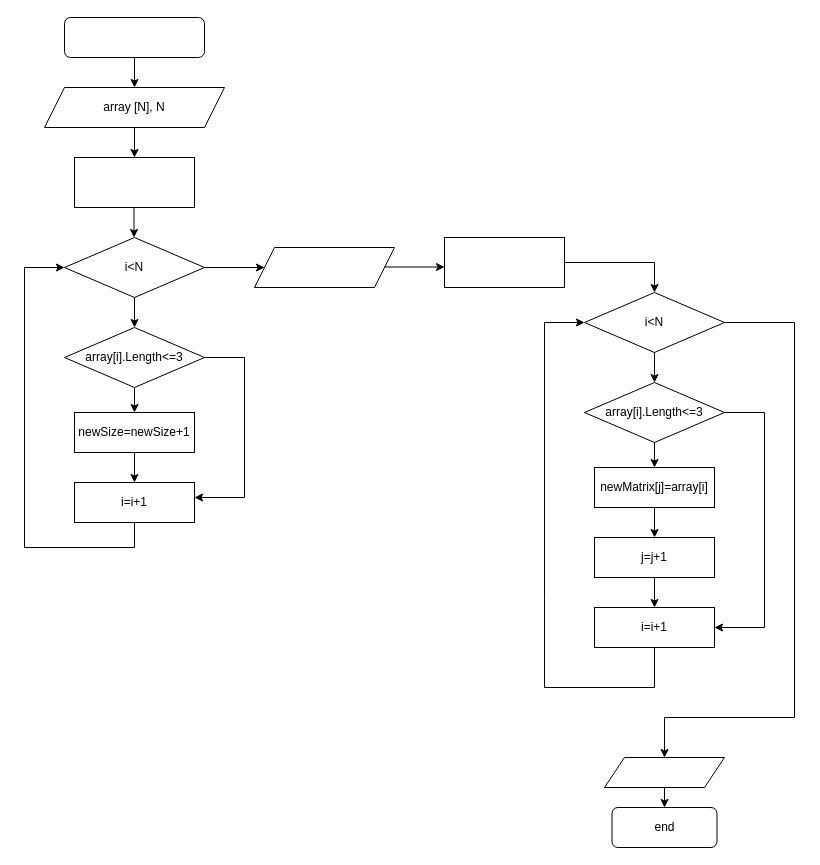
Image size: 820x865. Some labels were removed from this diagram. The shapes that lost their labels are listed below. From the top down, each one's centre as x and y in pixels, then its label:
(134,37): start
(134,182): newSize=0 i=0
(324,267): newMatrix[newSize]
(504,262): i=0 j=0 newMatrix[j]=0
(664,772): print (newMatrix)
